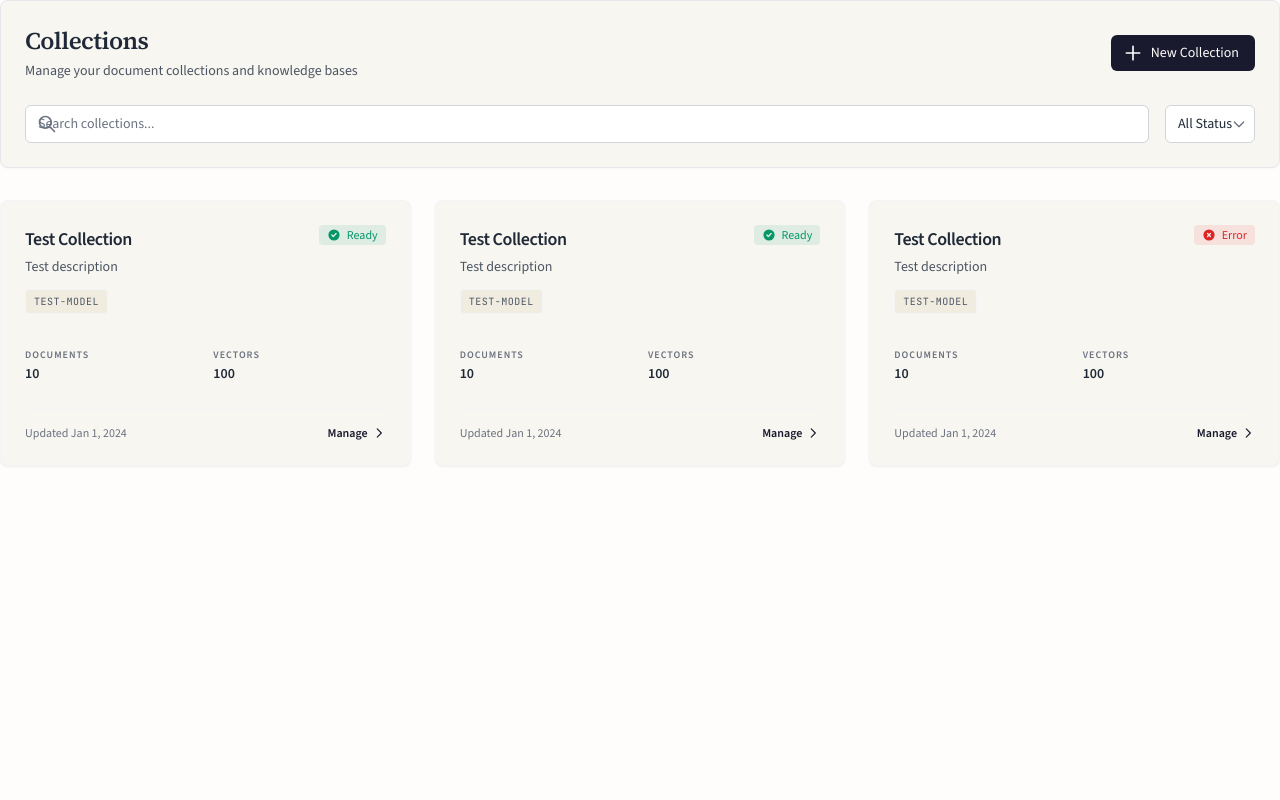
CollectionsDashboard › Status Filtering › should show results count when filtering by status
The width and height of the screenshot is (1280, 800).
Select "Ready" in the dropdown named "Filter collections by status" at (1210, 124), box x1=1165 y1=105 x2=1255 y2=143
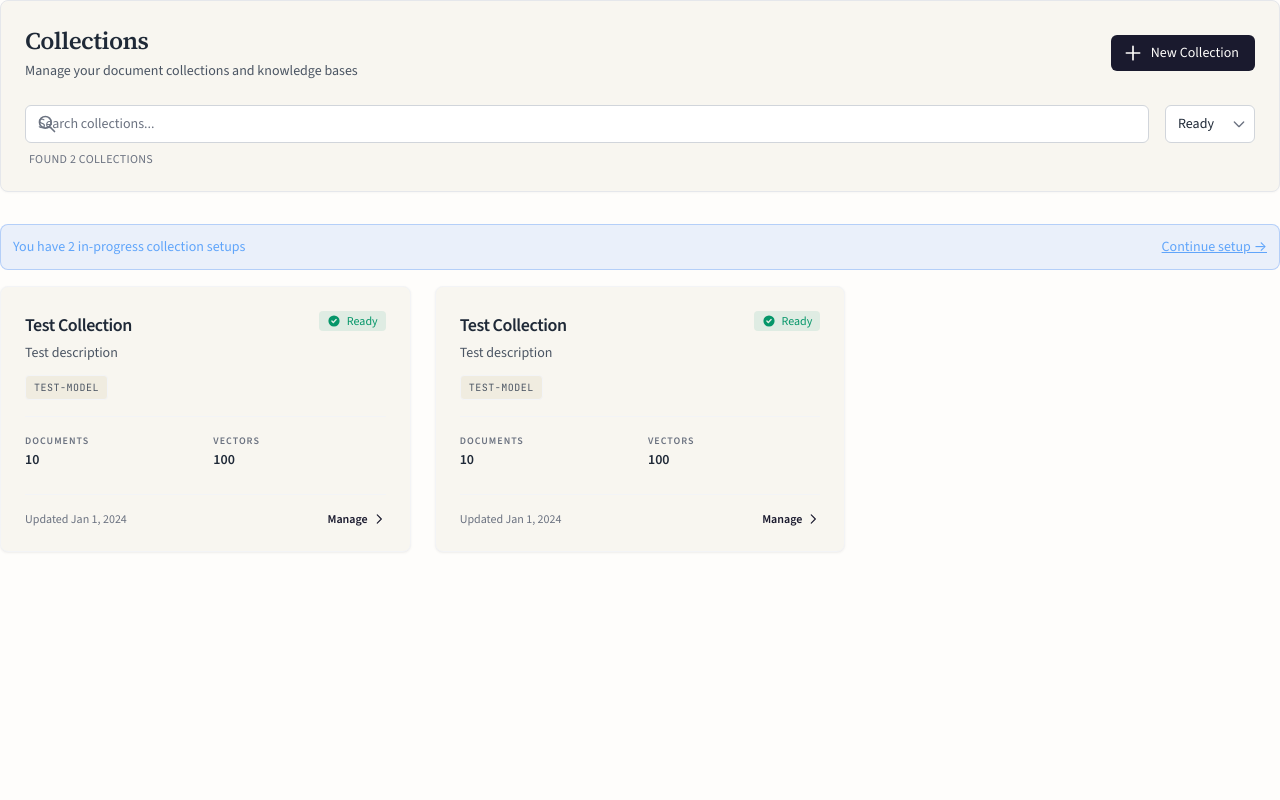
Check: the text "Found 2 collections" is shown, box x1=29 y1=151 x2=153 y2=167
